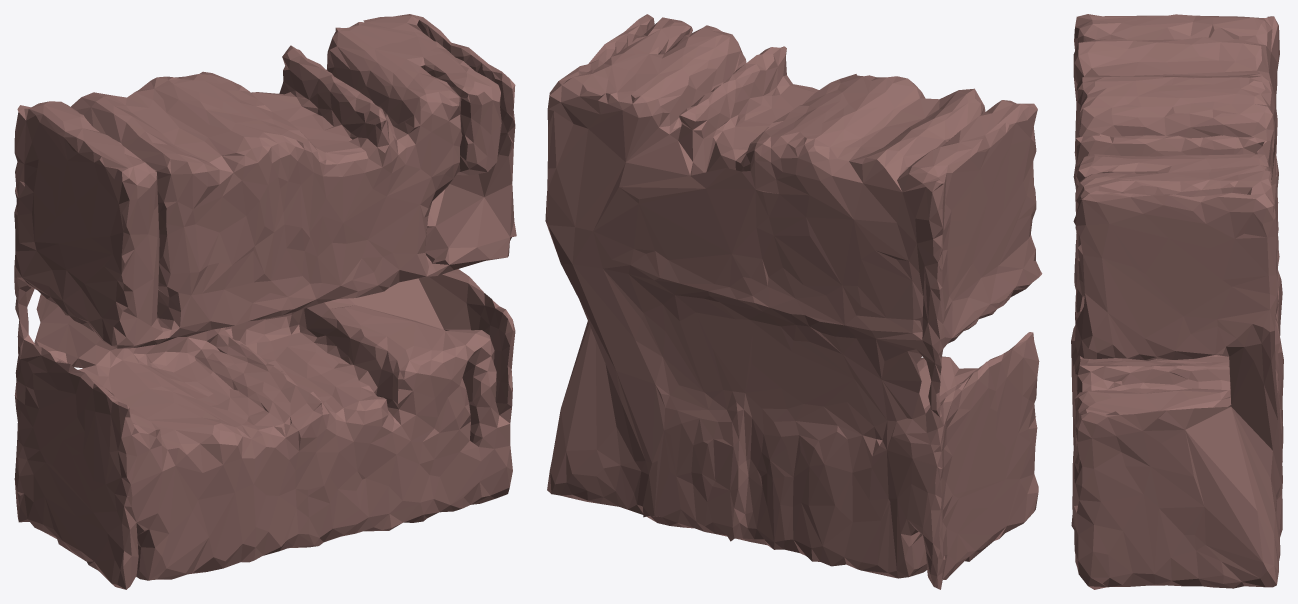
Rendered from triposg_v8.glb.
3 renders of one model, left to right at view 1: azimuth 30°, elevation 25°; view 2: azimuth 150°, elevation 25°; view 3: azimuth 270°, elevation 25°, orthographic. The views are drawn at different scales.
Parts seen in each view (by area): view 1: world; view 2: world; view 3: world.
Part boxes in pixels (box(x1,y1,x2,y2)): world: box(14, 14, 516, 589); world: box(545, 14, 1042, 589); world: box(1071, 14, 1283, 589).
Size of the model in its own units: 1.89 by 1.87 by 0.9021.
